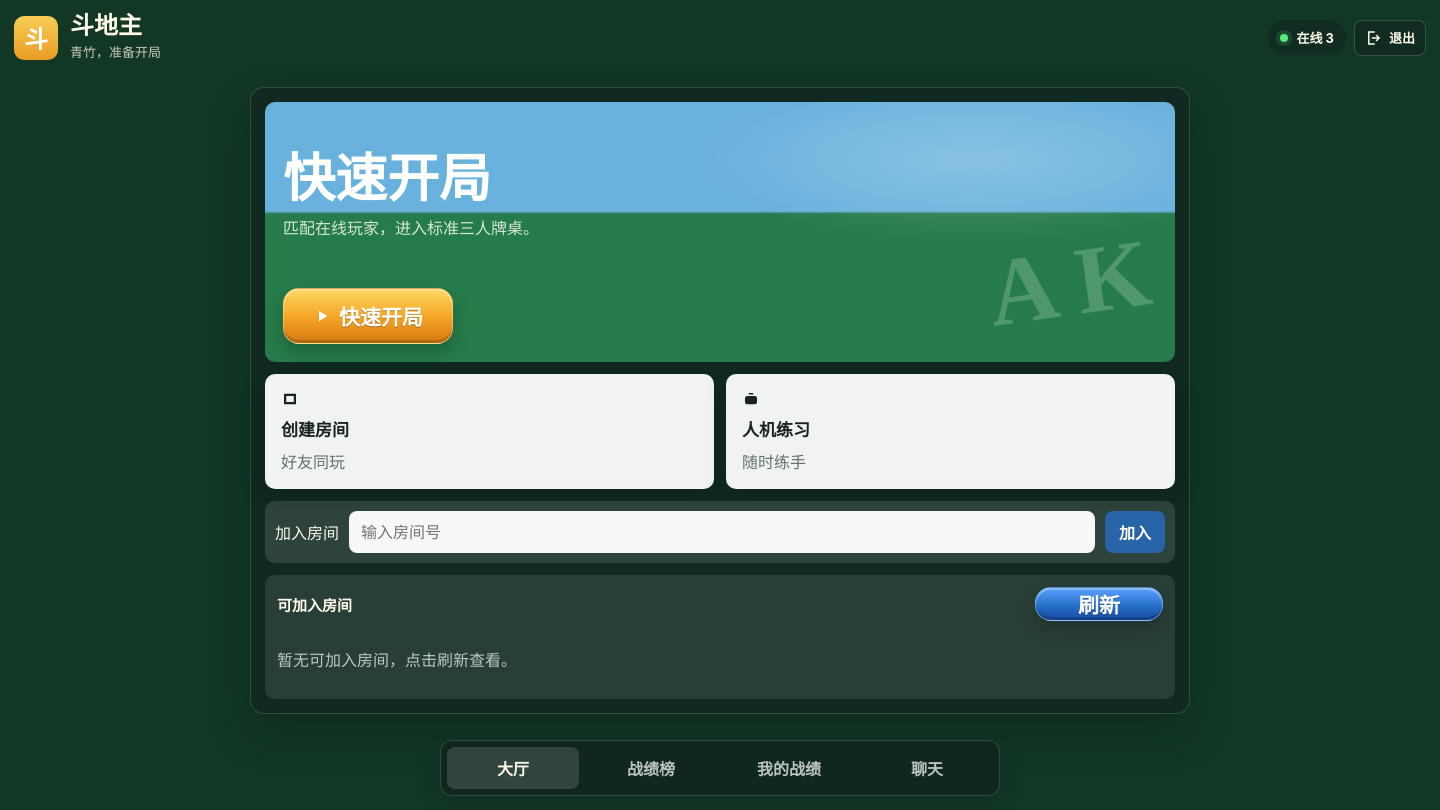
Test case: observable command dispatch › requests each leaderboard period and renders the server-returned type
The width and height of the screenshot is (1440, 810).
What coordinates should you click on to do the following:
click the button "战绩榜"
I would click on:
 (651, 768)
Its box is [585, 747, 717, 789].
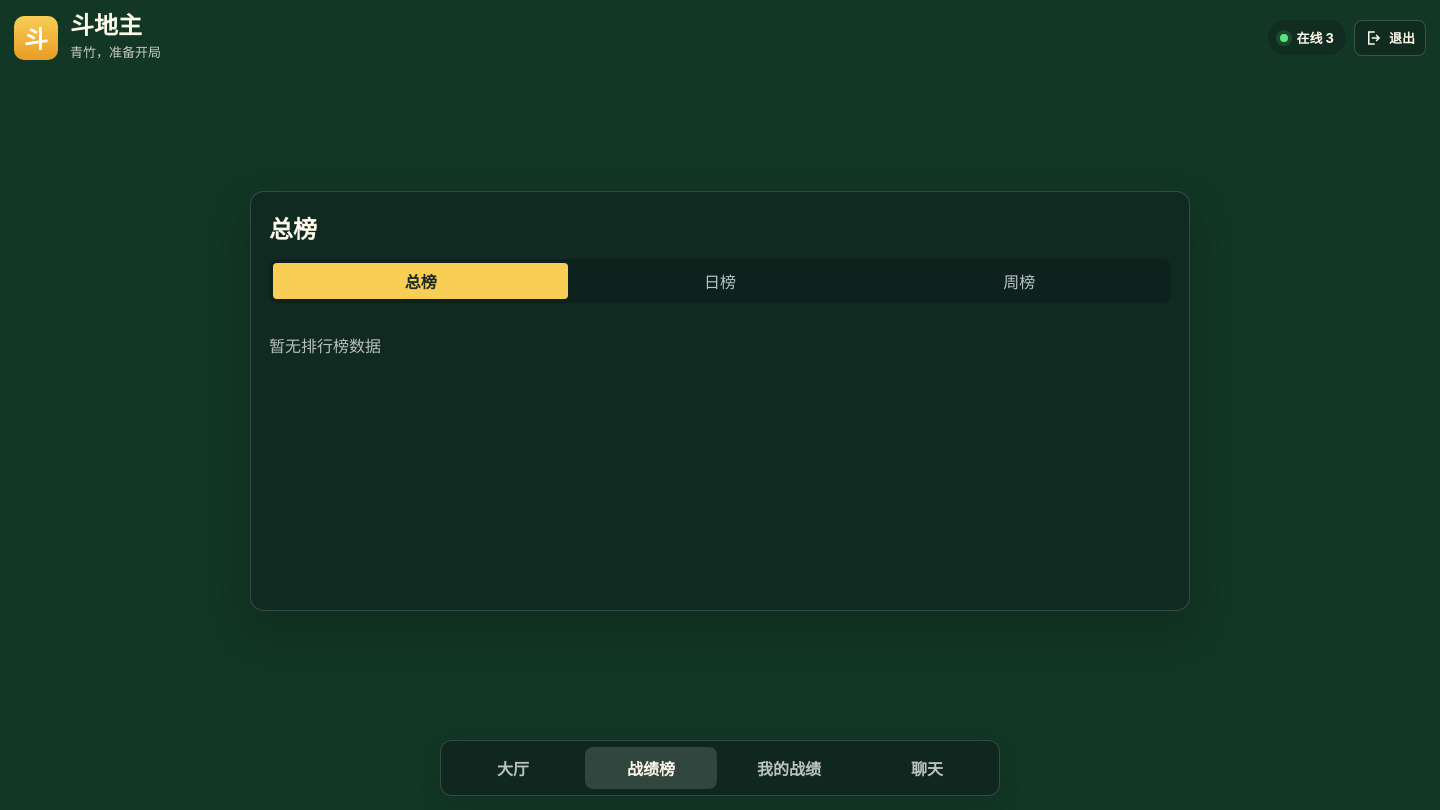
What coordinates should you click on to do the following:
click the tab "日榜"
I would click on:
 (720, 280)
Its box is [572, 262, 868, 298].
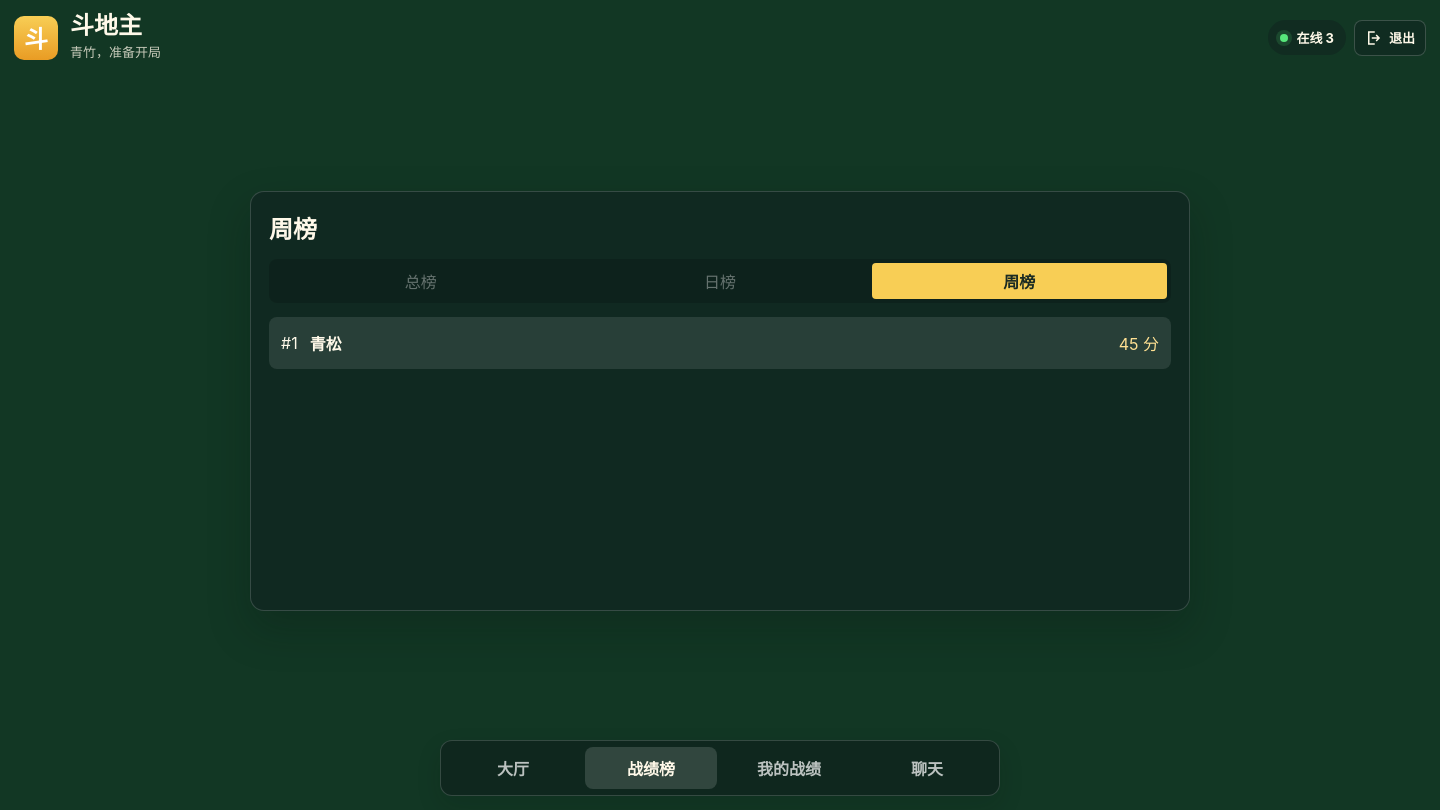
Result: the heading "周榜" is shown at [269, 214, 317, 244]
Result: the text "青松" is shown at [310, 334, 342, 354]
Result: the text "45 分" is shown at [1119, 330, 1159, 354]
